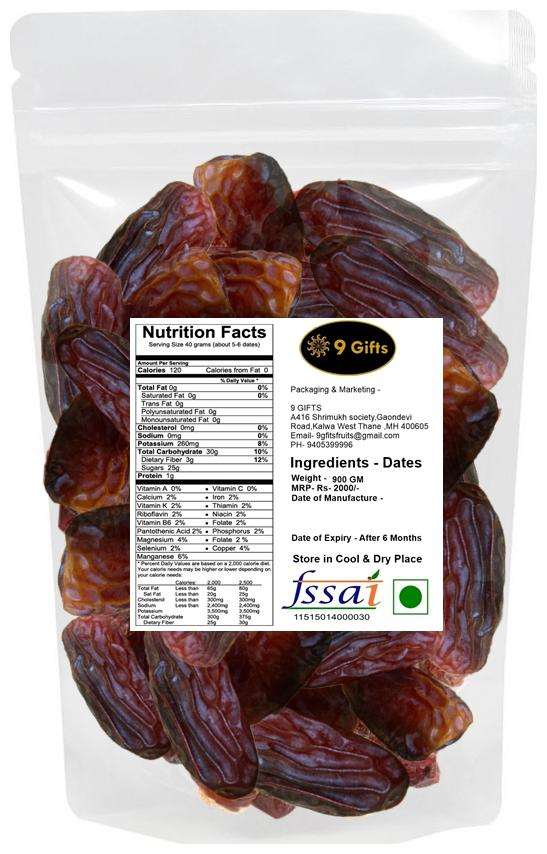fssai: (284, 568, 384, 611)
